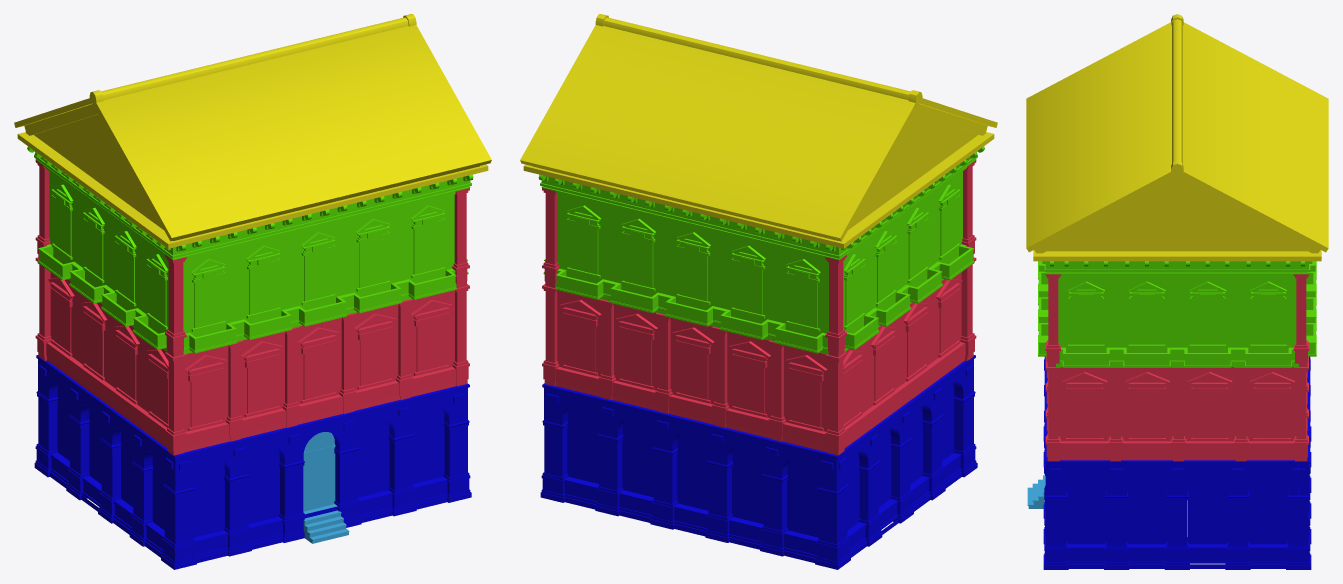
File: SM_ej_building001.fbx
3 views of the same model, side by side, from view 1: azimuth 30°, elevation 25°; view 2: azimuth 150°, elevation 25°; view 3: azimuth 270°, elevation 25° (orthographic). The views are drawn at different scales.
Visible parts, largest first — view 1: roof_main_low.001, 3F_bot_low.001, 2F_win_main_low, 3F_bot_low.003, 1F_pillar_bot_low.006, 1F_pillar_bot_low.004, 2F_win_main_low.002, 2F_side_bot_low, 1F_window_wall_top_low.006, 1F_windowbot_bot_low.002, 1F_windowbot_bot_low.001, 2F_side_bot_low.010 (+3 smaller); view 2: roof_main_low.001, 3F_bot_low.001, 2F_win_main_low, 1F_windowbot_bot_low.002, 1F_pillar_bot_low.006, 3F_bot_low.003, 1F_pillar_bot_low.004, 2F_win_main_low.002, 2F_side_bot_low, 1F_window_wall_top_low.006, 2F_side_bot_low.010, 1F_window_side_low.006; view 3: roof_main_low.001, 3F_bot_low.003, 1F_pillar_bot_low.004, 2F_win_main_low.002, 1F_pillar_bot_low.006, 2F_side_bot_low.011, 2F_side_bot_low, 2F_side_bot_low.010, 3F_bot_low.001, 1F_window_side_low.006, 1F_window_wall_top_low.006, door_stair_low.
Part boxes in pixels (x1,y1,x2,y2): roof_main_low.001: [14, 14, 491, 248]; 3F_bot_low.001: [183, 178, 459, 354]; 2F_win_main_low: [183, 290, 456, 452]; 3F_bot_low.003: [34, 152, 468, 351]; 1F_pillar_bot_low.006: [34, 391, 471, 569]; 1F_pillar_bot_low.004: [41, 359, 169, 557]; 2F_win_main_low.002: [46, 272, 168, 447]; 2F_side_bot_low: [35, 257, 469, 455]; 1F_window_wall_top_low.006: [184, 386, 459, 489]; 1F_windowbot_bot_low.002: [304, 405, 447, 522]; 1F_windowbot_bot_low.001: [193, 445, 282, 563]; 2F_side_bot_low.010: [35, 160, 469, 357]; roof_main_low.001: [520, 14, 997, 248]; 3F_bot_low.001: [552, 178, 828, 354]; 2F_win_main_low: [555, 290, 828, 452]; 1F_windowbot_bot_low.002: [564, 405, 818, 562]; 1F_pillar_bot_low.006: [540, 391, 977, 569]; 3F_bot_low.003: [543, 152, 977, 351]; 1F_pillar_bot_low.004: [842, 360, 970, 557]; 2F_win_main_low.002: [843, 272, 965, 447]; 2F_side_bot_low: [542, 257, 976, 455]; 1F_window_wall_top_low.006: [552, 386, 827, 489]; 2F_side_bot_low.010: [542, 160, 976, 357]; 1F_window_side_low.006: [542, 355, 975, 491]; roof_main_low.001: [1026, 14, 1328, 261]; 3F_bot_low.003: [1056, 261, 1298, 367]; 1F_pillar_bot_low.004: [1056, 460, 1298, 569]; 2F_win_main_low.002: [1058, 367, 1296, 460]; 1F_pillar_bot_low.006: [1043, 422, 1311, 569]; 2F_side_bot_low.011: [1108, 367, 1248, 461]; 2F_side_bot_low: [1045, 356, 1308, 461]; 2F_side_bot_low.010: [1045, 274, 1308, 366]; 3F_bot_low.001: [1038, 261, 1316, 356]; 1F_window_side_low.006: [1044, 457, 1310, 495]; 1F_window_wall_top_low.006: [1044, 356, 1310, 464]; door_stair_low: [1027, 475, 1045, 508].
Bounding box in the file's own units: 1401 × 1795 × 1195.
